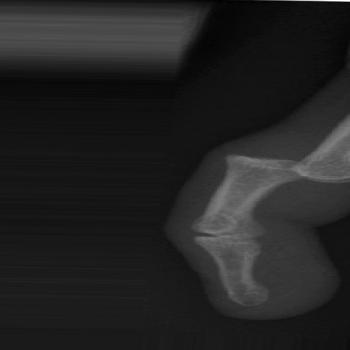Fracture: (217, 148, 350, 185)
